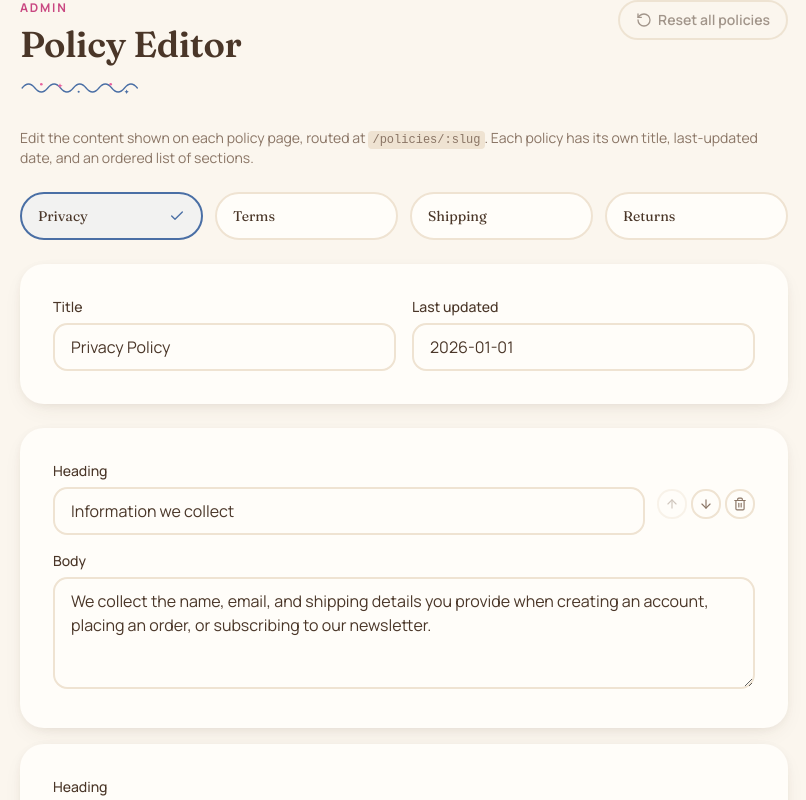
Test case: PolicyEditor › saves an edited title and shows a confirmation, without touching other policies
Replace the text in the field labelled "Title" with "Our Privacy Promise". click: [224, 347]
box: [53, 323, 396, 371]
(page scrolled)
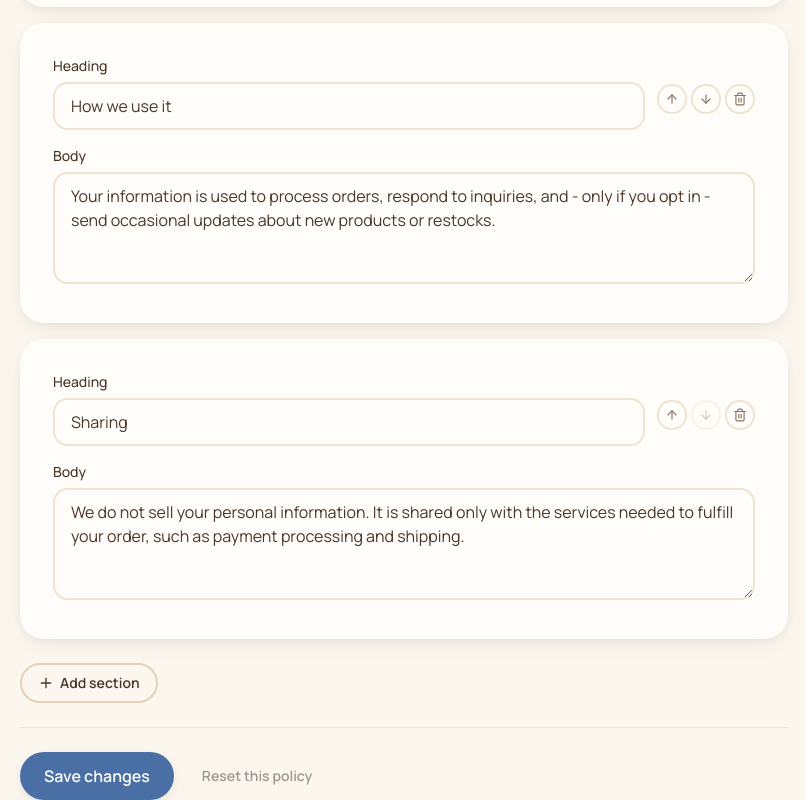
Click the button "Save changes". click: [97, 776]
box: [20, 752, 174, 799]
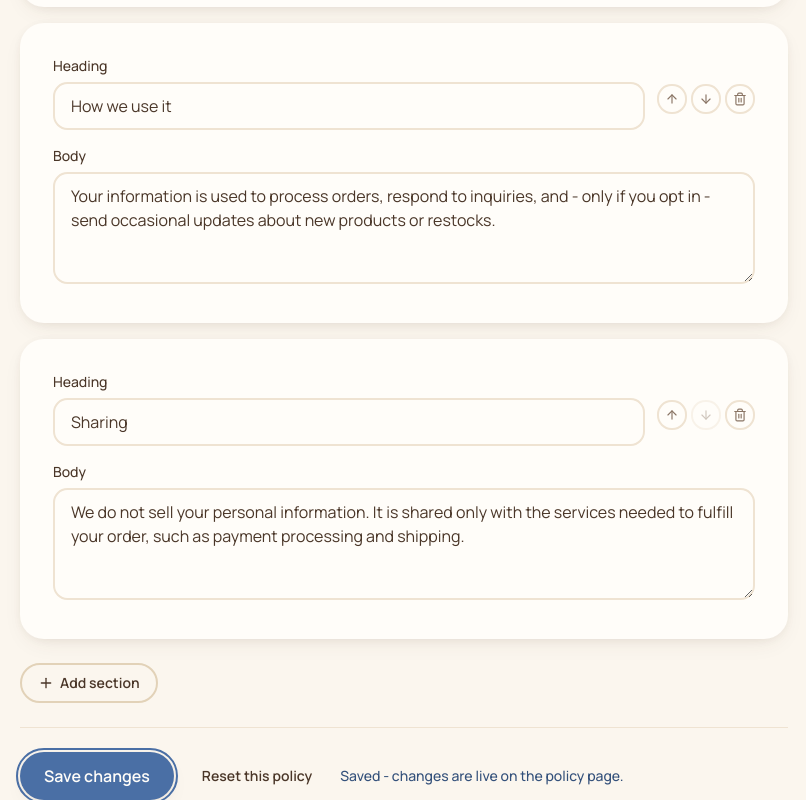
Result: the message shows "Saved" at [340, 766, 624, 785]
